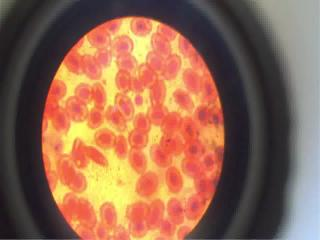cell: (133, 176, 161, 196), (80, 197, 98, 227), (46, 78, 70, 100), (115, 89, 133, 117), (151, 32, 172, 56), (150, 82, 172, 104), (98, 200, 116, 225), (183, 155, 204, 176), (68, 99, 88, 121), (165, 58, 183, 82), (166, 172, 186, 193), (124, 204, 150, 220), (105, 106, 123, 129), (72, 139, 87, 166), (94, 131, 115, 150), (60, 158, 74, 186), (184, 69, 201, 92), (112, 37, 136, 53), (146, 107, 170, 123), (151, 144, 170, 164), (186, 139, 206, 158), (51, 110, 70, 130), (177, 90, 194, 111), (114, 72, 133, 90), (94, 84, 111, 104), (129, 131, 149, 148), (129, 152, 147, 170), (182, 120, 199, 139), (195, 105, 212, 124), (118, 56, 140, 70), (76, 84, 95, 100), (133, 19, 151, 35), (92, 31, 112, 45), (187, 194, 201, 214), (88, 108, 103, 125), (70, 52, 82, 73), (171, 204, 185, 222), (85, 59, 98, 78)
